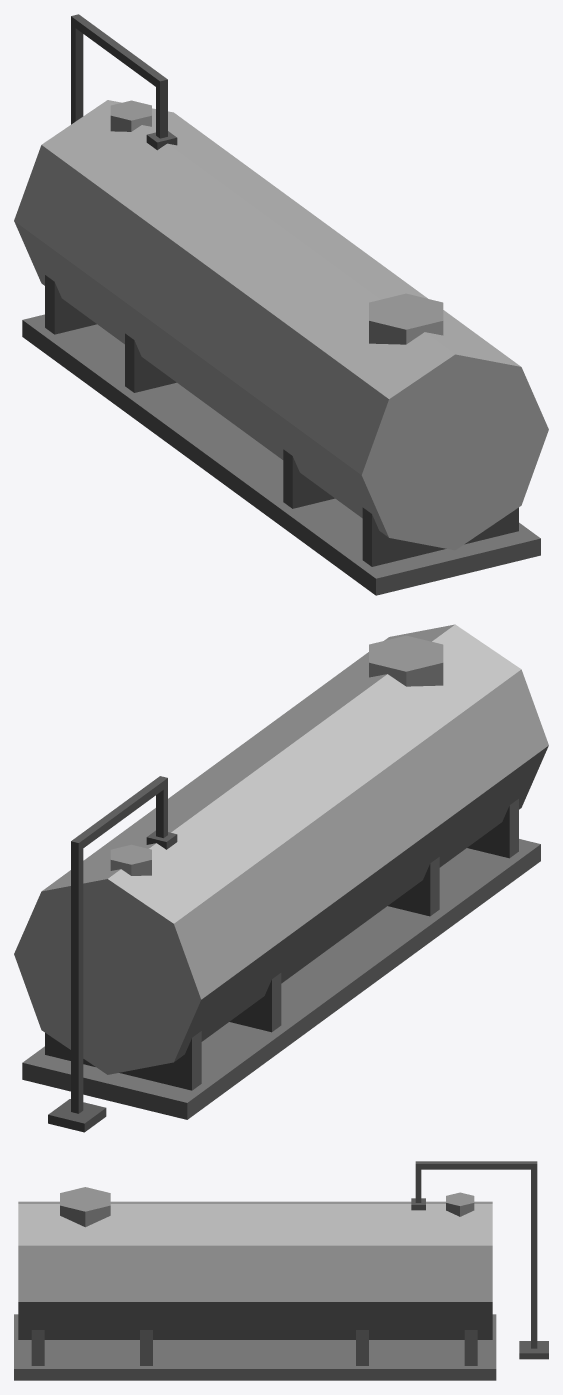
The model's file is SM_Prop_Fuel_Tank_Large_01.fbx.
3 views of the same model, one above another, from view 1: azimuth 30°, elevation 25°; view 2: azimuth 150°, elevation 25°; view 3: azimuth 270°, elevation 25° (orthographic). The views are drawn at different scales.
Parts seen in each view (by area): view 1: SM_Prop_Fuel_Tank_Large_01; view 2: SM_Prop_Fuel_Tank_Large_01; view 3: SM_Prop_Fuel_Tank_Large_01.
Part boxes in pixels (box(x1,y1,x2,y2)): SM_Prop_Fuel_Tank_Large_01: box(14, 14, 548, 595); SM_Prop_Fuel_Tank_Large_01: box(14, 624, 548, 1132); SM_Prop_Fuel_Tank_Large_01: box(14, 1161, 548, 1380).
Size of the model in its own units: 4.34 by 6.19 by 15.74.
